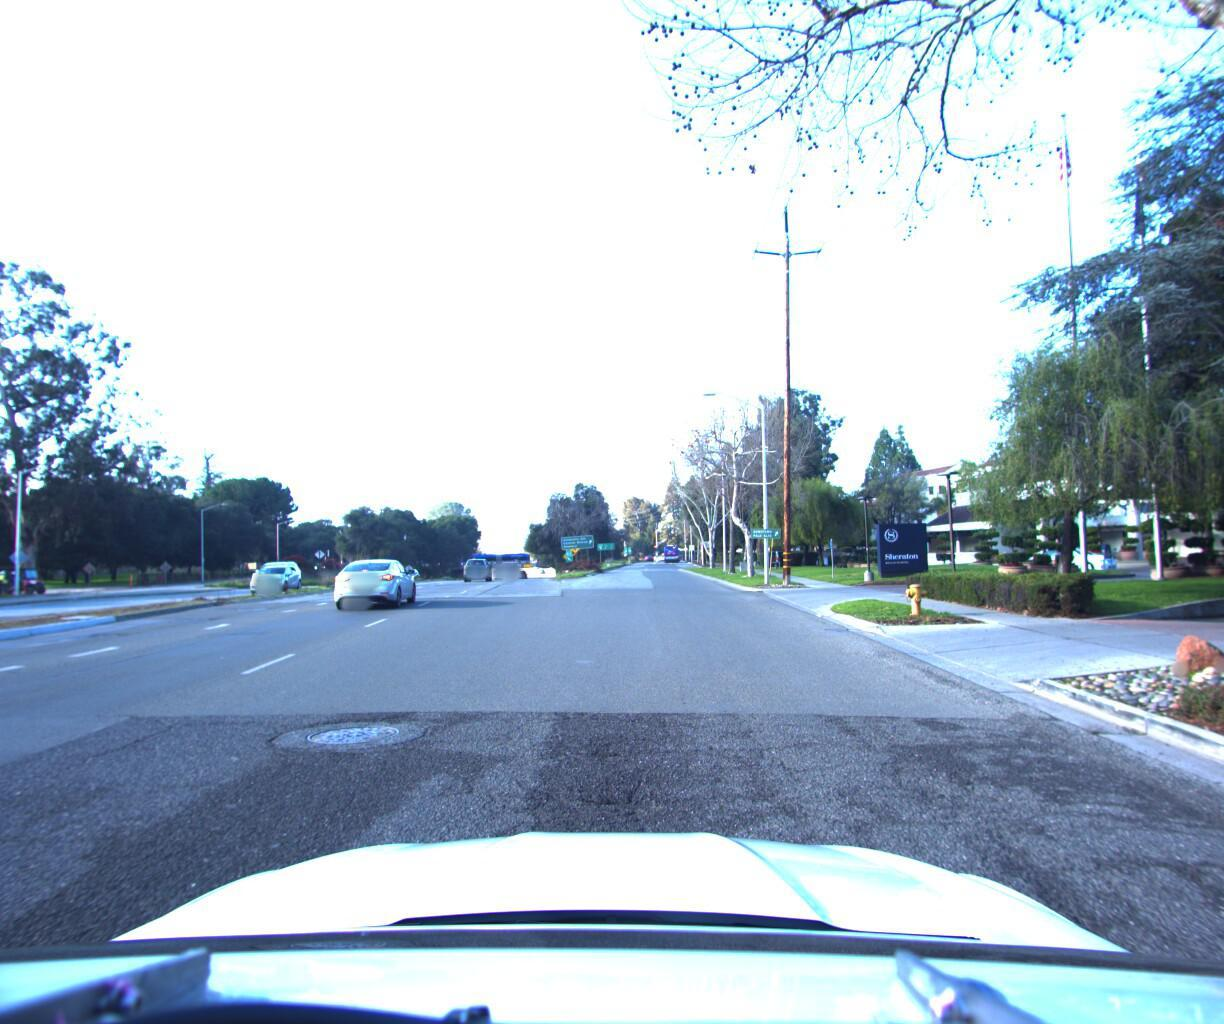car: (328, 558, 418, 615), (1017, 538, 1120, 568), (248, 560, 308, 590), (251, 556, 303, 586), (462, 554, 493, 579)
other_vehicle: (0, 565, 54, 596)
